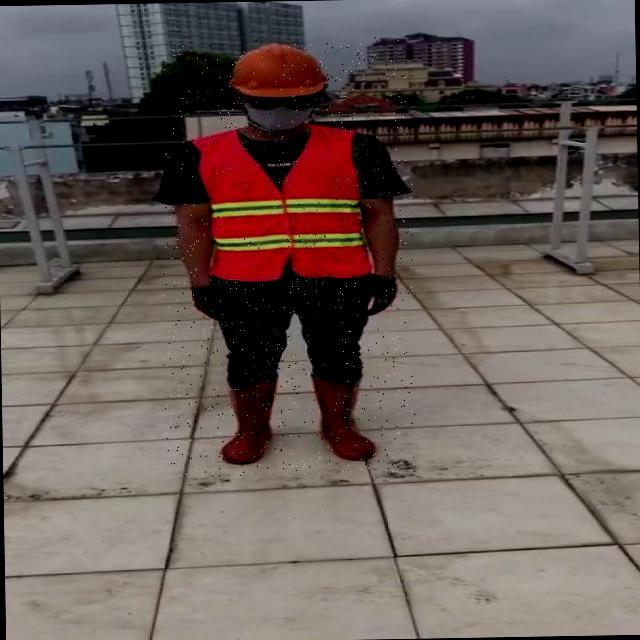boots: (218, 380, 282, 462), (312, 378, 374, 462)
gloves: (339, 260, 408, 328), (174, 282, 256, 334)
helmet: (225, 38, 333, 100)
vest: (198, 125, 370, 280)
